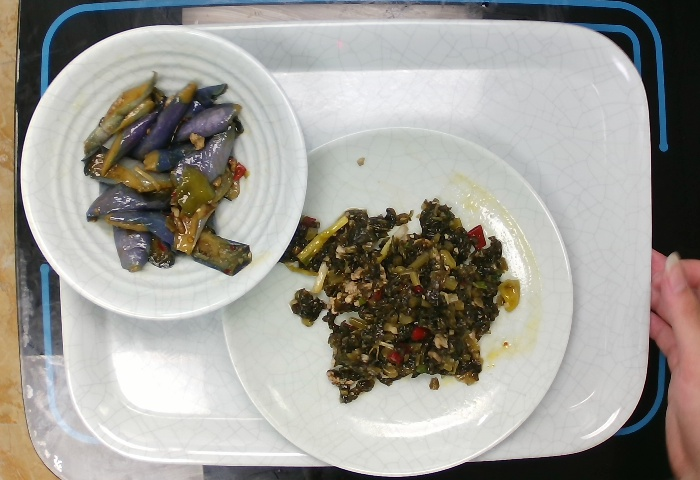JYsf-Da_Yuan_Pan: (217, 122, 576, 480)
JYsf-Xiao_Tang_Wan: (16, 20, 315, 326)
